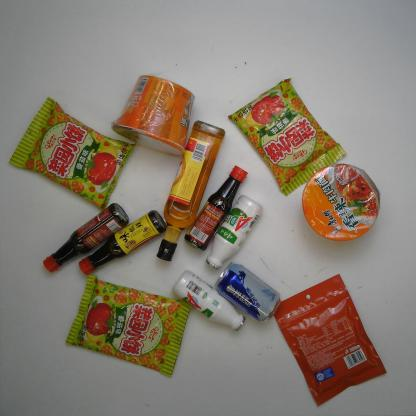Alcohol: (214, 258, 280, 328)
Dried Fruit: (271, 274, 394, 402)
Instant Noodles: (111, 74, 197, 156), (302, 163, 382, 242)
Milk: (174, 266, 245, 333), (207, 195, 261, 268)
Puffed Food: (6, 92, 136, 211), (59, 274, 199, 378), (229, 75, 347, 194)
Seasoner: (156, 112, 226, 264), (45, 198, 132, 270), (75, 207, 168, 273), (183, 158, 251, 246)
